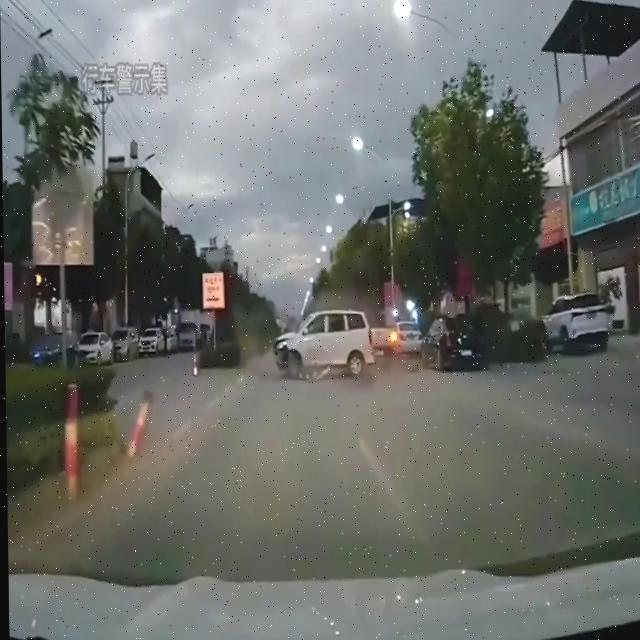multiple_accident: (250, 278, 515, 402)
